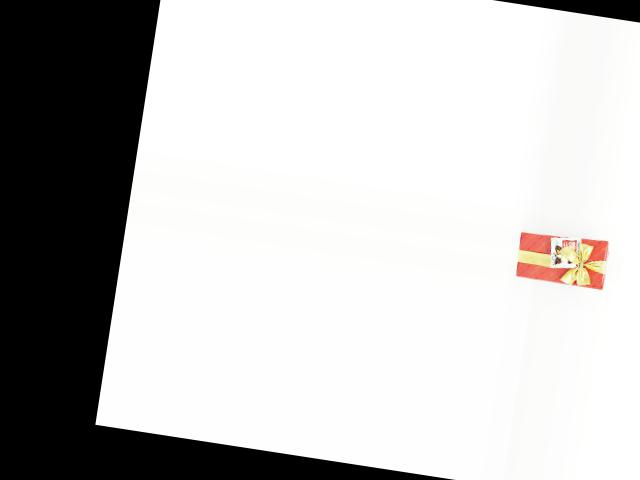chocolate: (515, 228, 613, 294)
